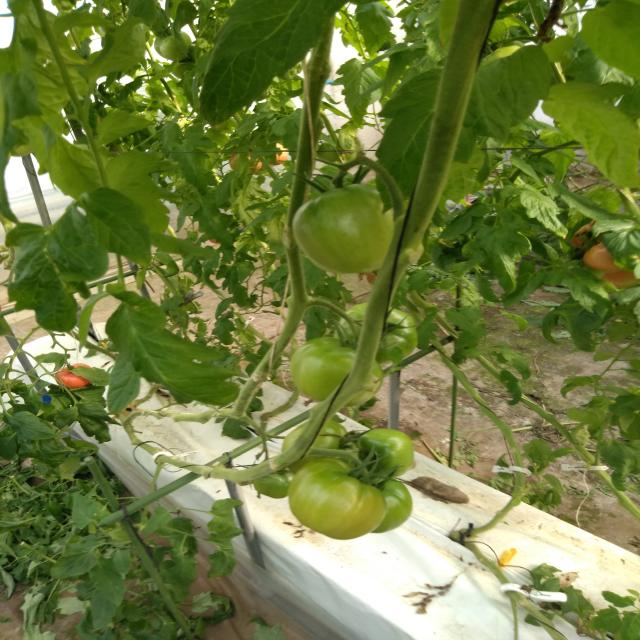yesil: (266, 166, 464, 346), (234, 417, 459, 572)
